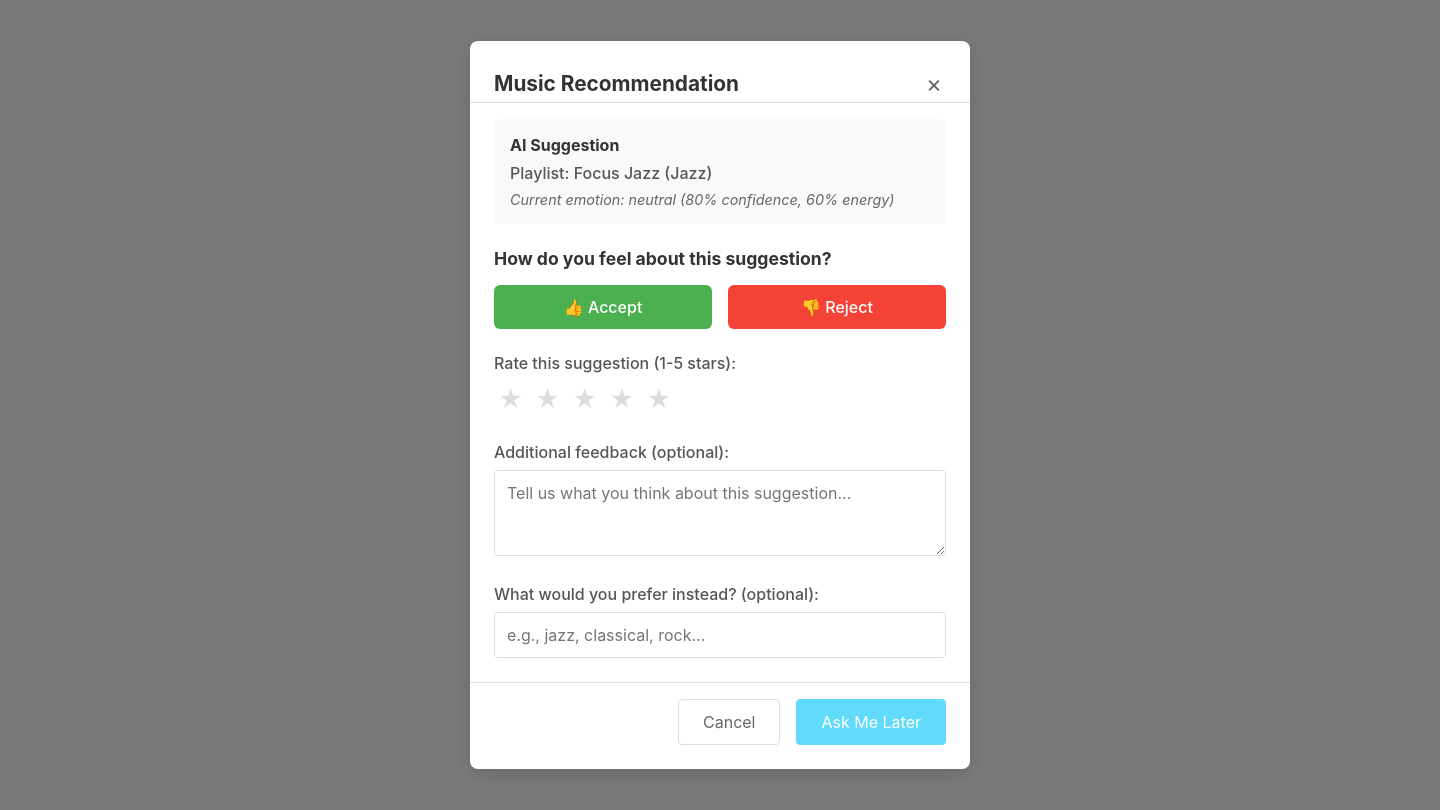
it: FeedbackModal › disables buttons when submitting
Click the button with aria-label "Accept this suggestion".
click(603, 307)  # box [494, 285, 712, 329]
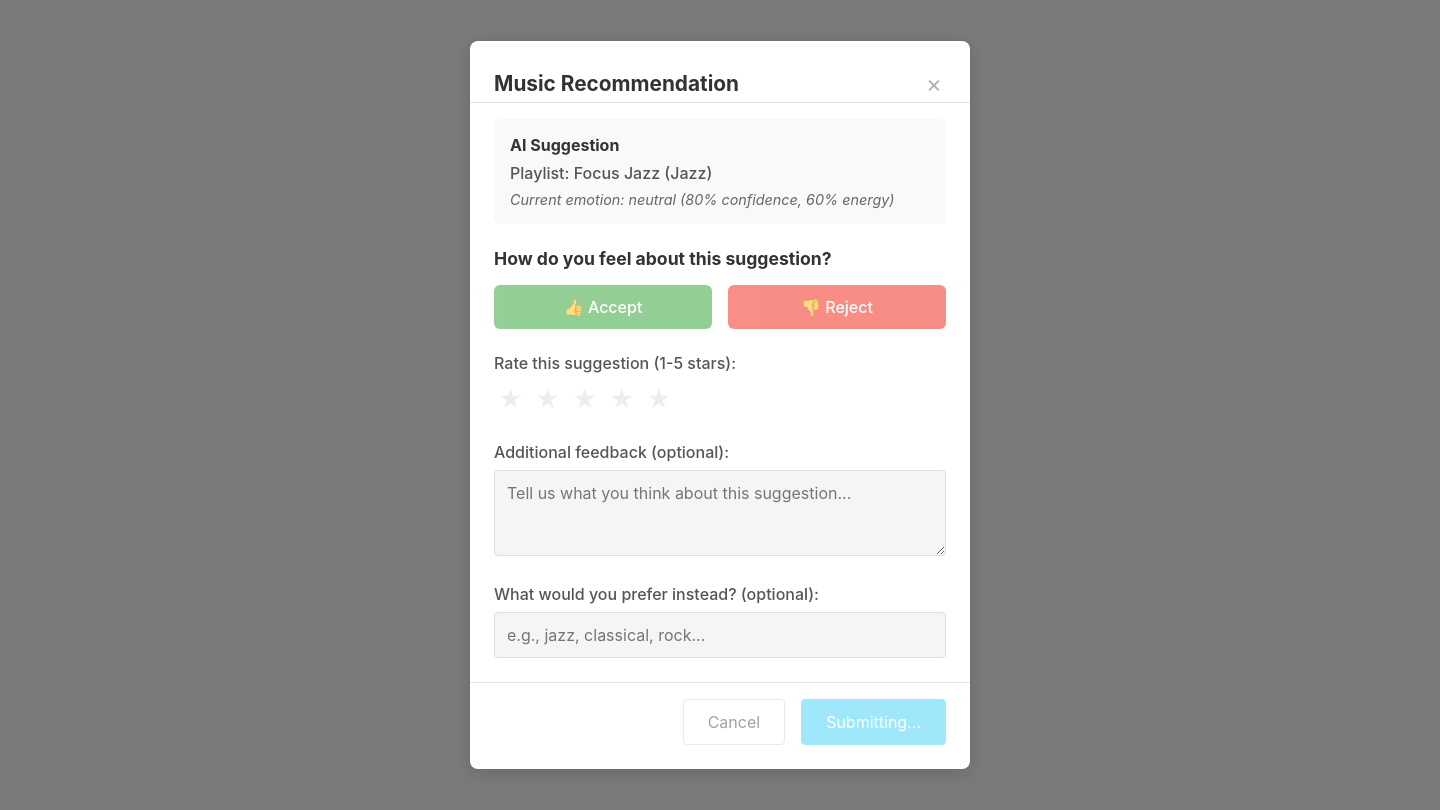
Result: the button named "Close feedback modal" is disabled at [922, 65, 946, 102]
Result: the button with aria-label "Reject this suggestion" is disabled at [728, 285, 946, 329]
Result: the button "Cancel" is disabled at [683, 699, 785, 745]
